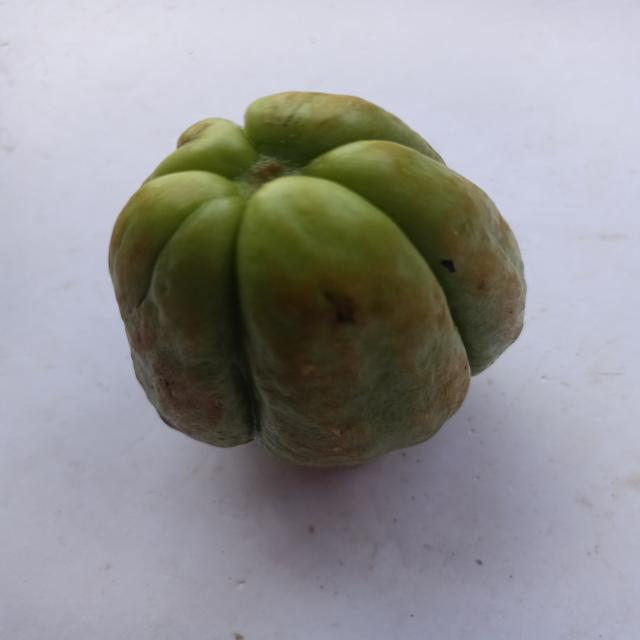Chayote: (101, 77, 564, 498)
